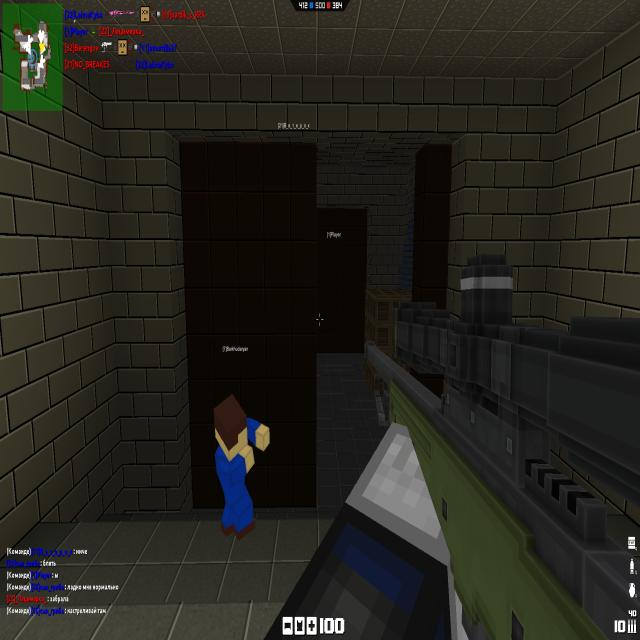player: (213, 391, 273, 542)
